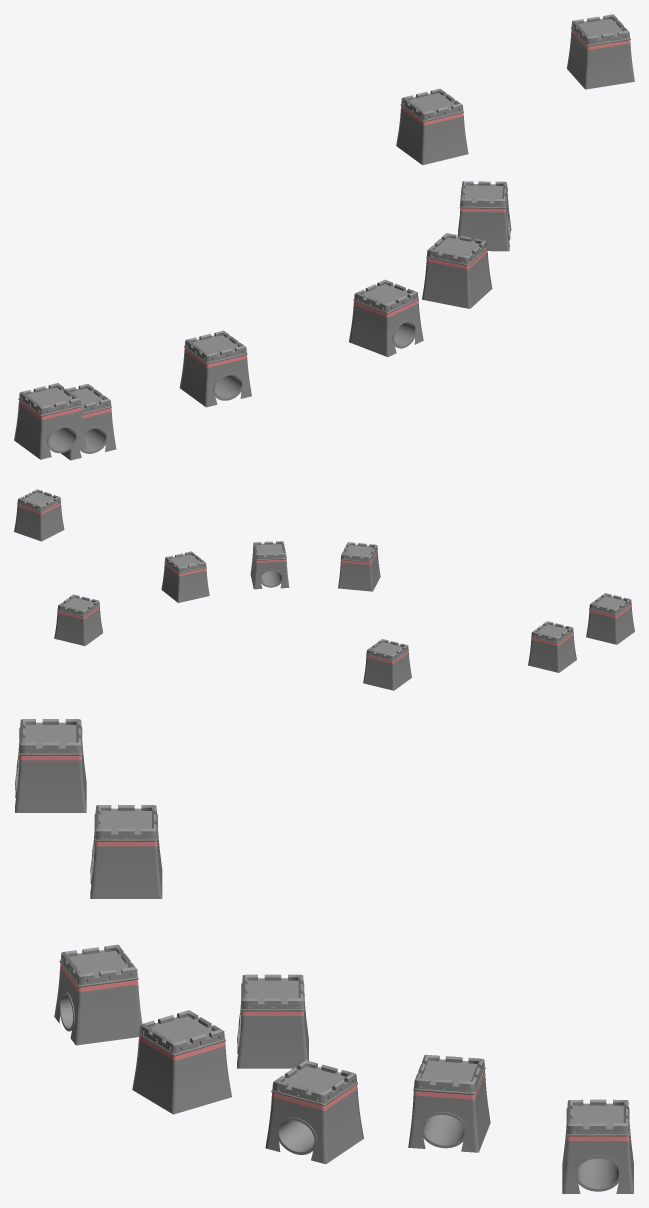
Rendered from CHN_OOB_GuardTower01_CMB.gltf.
3 renders of one model, top to bottom at view 1: azimuth 30°, elevation 25°; view 2: azimuth 150°, elevation 25°; view 3: azimuth 270°, elevation 25°, orthographic. The views are drawn at different scales.
Parts seen in each view (by area): view 1: CHN_OOB_GuardTower01_CMB; view 2: CHN_OOB_GuardTower01_CMB; view 3: CHN_OOB_GuardTower01_CMB.
Boxes of the visible parts, x1,y1,x2,y2 form: CHN_OOB_GuardTower01_CMB: (14, 14, 634, 460); CHN_OOB_GuardTower01_CMB: (14, 489, 634, 690); CHN_OOB_GuardTower01_CMB: (15, 719, 633, 1193).
Size of the model in its own units: 209 by 55.83 by 111.
